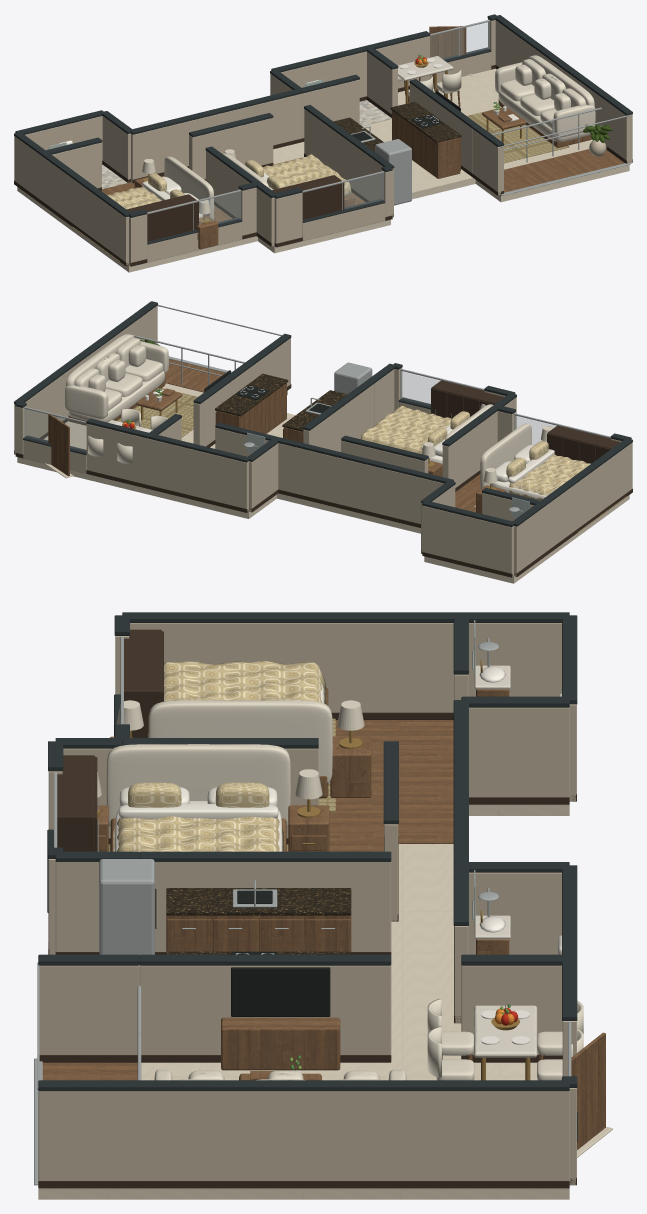
File: Codename-Elements_Tower-2_Flat-07_2BHK.glb
3 renders of one model, top to bottom at view 1: azimuth 30°, elevation 25°; view 2: azimuth 150°, elevation 25°; view 3: azimuth 270°, elevation 25°, orthographic. The views are drawn at different scales.
Parts seen in each view (by area): view 1: Apartment foundation, Ivory masonry.014, Ivory masonry.011, Ivory masonry.007, Ivory masonry.016, Ivory masonry.009, Ivory masonry.017, Kitchen cabinetry.001, Dark fitted wardrobe, Ivory masonry.020, Dark fitted wardrobe.001, Living woven carpet (+51 smaller); view 2: Ivory masonry.009, Ivory masonry.011, Ivory masonry.014, Apartment foundation, Ivory masonry.013, Ivory masonry.007, Soft jacquard duvet with folds.004, Ivory masonry.017, Ivory masonry.015, Ivory masonry.022, Soft jacquard duvet with folds.003, Kitchen cabinetry.001 (+43 smaller); view 3: Ivory masonry.007, Ivory masonry.014, Apartment foundation, Ivory masonry.022, Ivory masonry.017, Ivory masonry.012, Ivory masonry.006, Padded headboard.004, Padded headboard.003, Walnut television console, Charcoal wall cut.007, Ivory masonry.010 (+47 smaller).
Boxes of the visible parts, box(x1,y1,x2,y2) form: Apartment foundation: box(17, 68, 629, 272); Ivory masonry.014: box(14, 136, 128, 265); Ivory masonry.011: box(131, 94, 301, 182); Ivory masonry.007: box(495, 20, 632, 163); Ivory masonry.016: box(189, 118, 273, 179); Ivory masonry.009: box(281, 36, 429, 97); Ivory masonry.017: box(304, 109, 366, 198); Kitchen cabinetry.001: box(392, 110, 460, 178); Dark fitted wardrobe: box(126, 194, 198, 241); Ivory masonry.020: box(302, 79, 359, 138); Dark fitted wardrobe.001: box(272, 175, 344, 219); Living woven carpet: box(467, 107, 569, 163); Ivory masonry.009: box(86, 424, 248, 511); Ivory masonry.011: box(278, 443, 443, 523); Ivory masonry.014: box(514, 442, 632, 576); Apartment foundation: box(17, 383, 629, 583); Ivory masonry.013: box(422, 506, 513, 576); Ivory masonry.007: box(14, 305, 157, 454); Soft jacquard duvet with folds.004: box(361, 405, 451, 453); Ivory masonry.017: box(303, 384, 374, 451); Ivory masonry.015: box(442, 411, 497, 487); Ivory masonry.022: box(193, 357, 264, 446); Soft jacquard duvet with folds.003: box(508, 454, 590, 500); Kitchen cabinetry.001: box(216, 383, 286, 433); Ivory masonry.007: box(38, 1091, 569, 1180); Ivory masonry.014: box(130, 623, 561, 712); Apartment foundation: box(38, 804, 569, 1199); Ivory masonry.022: box(139, 965, 391, 1054); Ivory masonry.017: box(155, 862, 391, 951); Ivory masonry.012: box(469, 707, 569, 797); Ivory masonry.006: box(39, 965, 139, 1054); Padded headboard.004: box(106, 744, 290, 827); Padded headboard.003: box(148, 700, 332, 784); Walnut television console: box(221, 1017, 340, 1070); Charcoal wall cut.007: box(38, 1080, 569, 1091); Ivory masonry.010: box(468, 872, 561, 954).
Size of the model in its own units: 11.51 by 1.37 by 5.93.
Materials: 25 (6 with a texture image).
